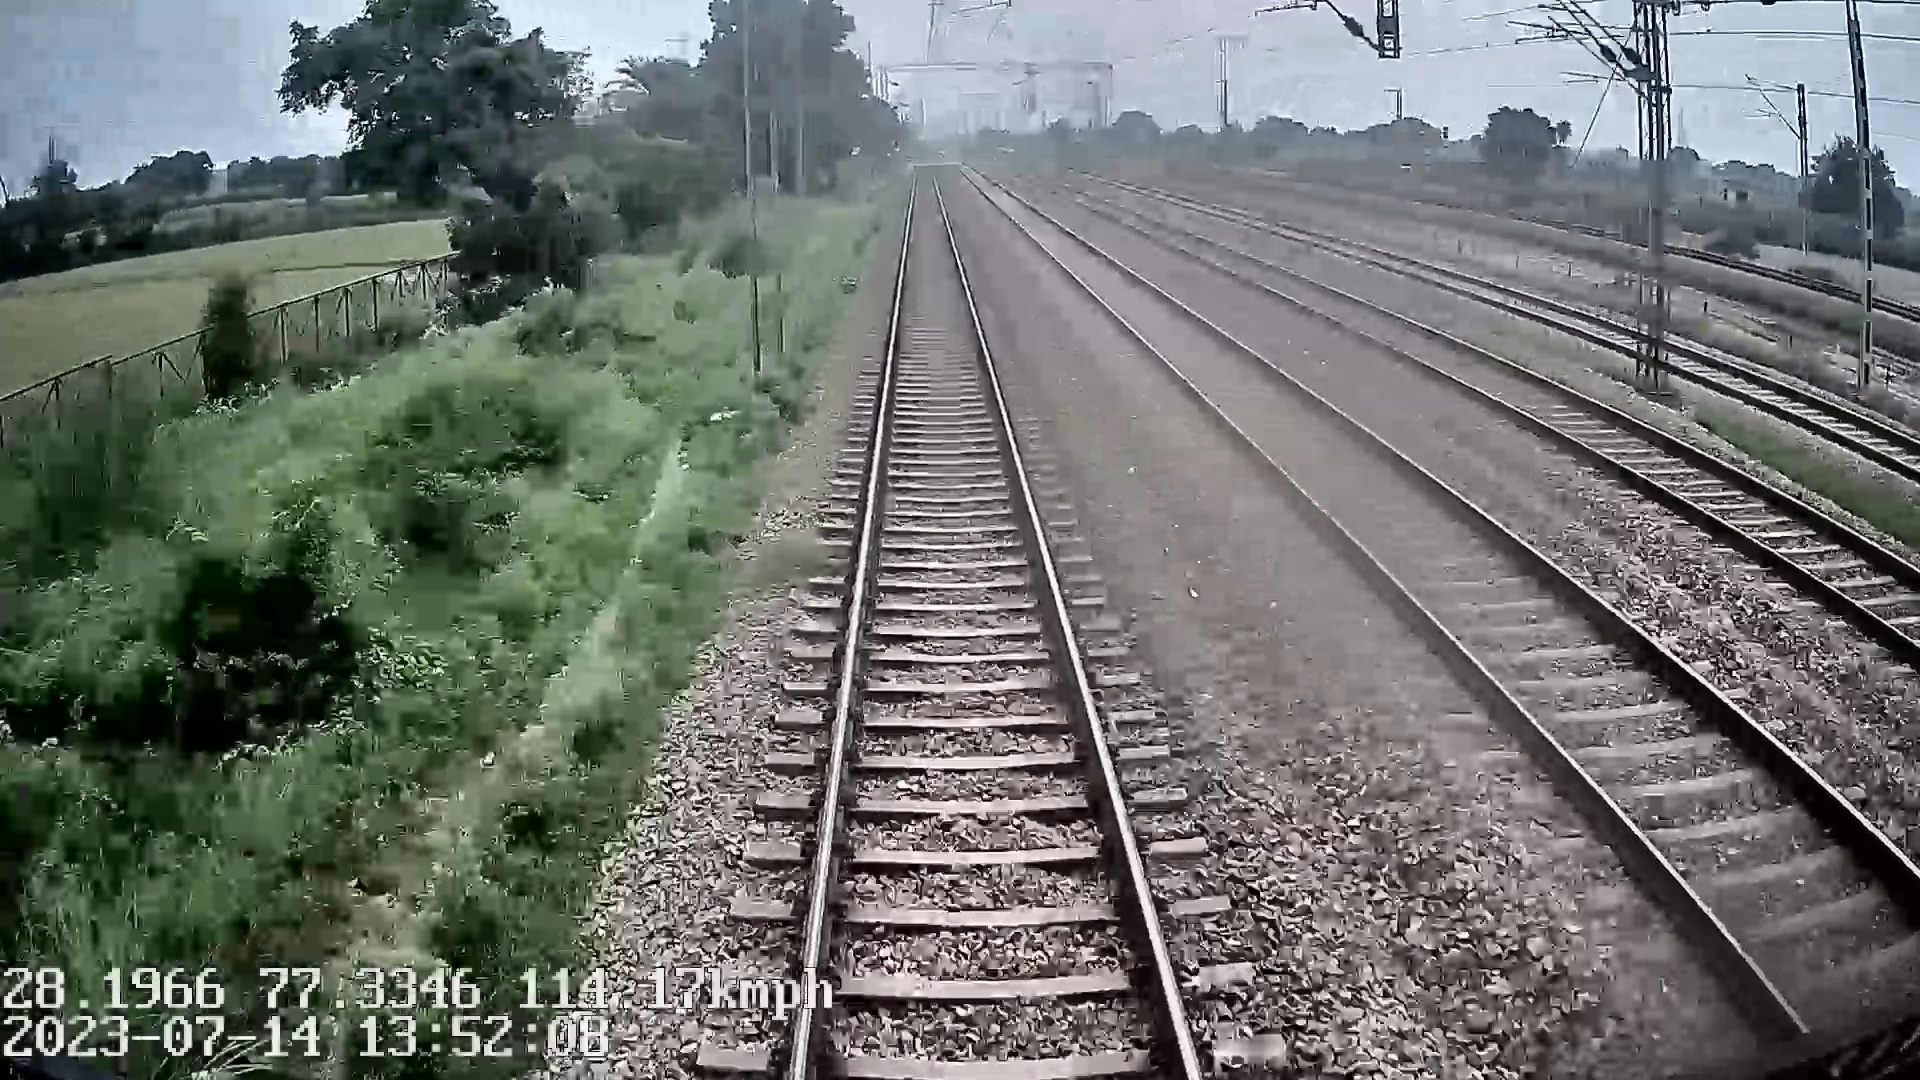track1: (798, 185, 1188, 1058)
track2: (960, 167, 1913, 996)
track3: (1089, 199, 1917, 624)
track4: (1203, 204, 1915, 467)
